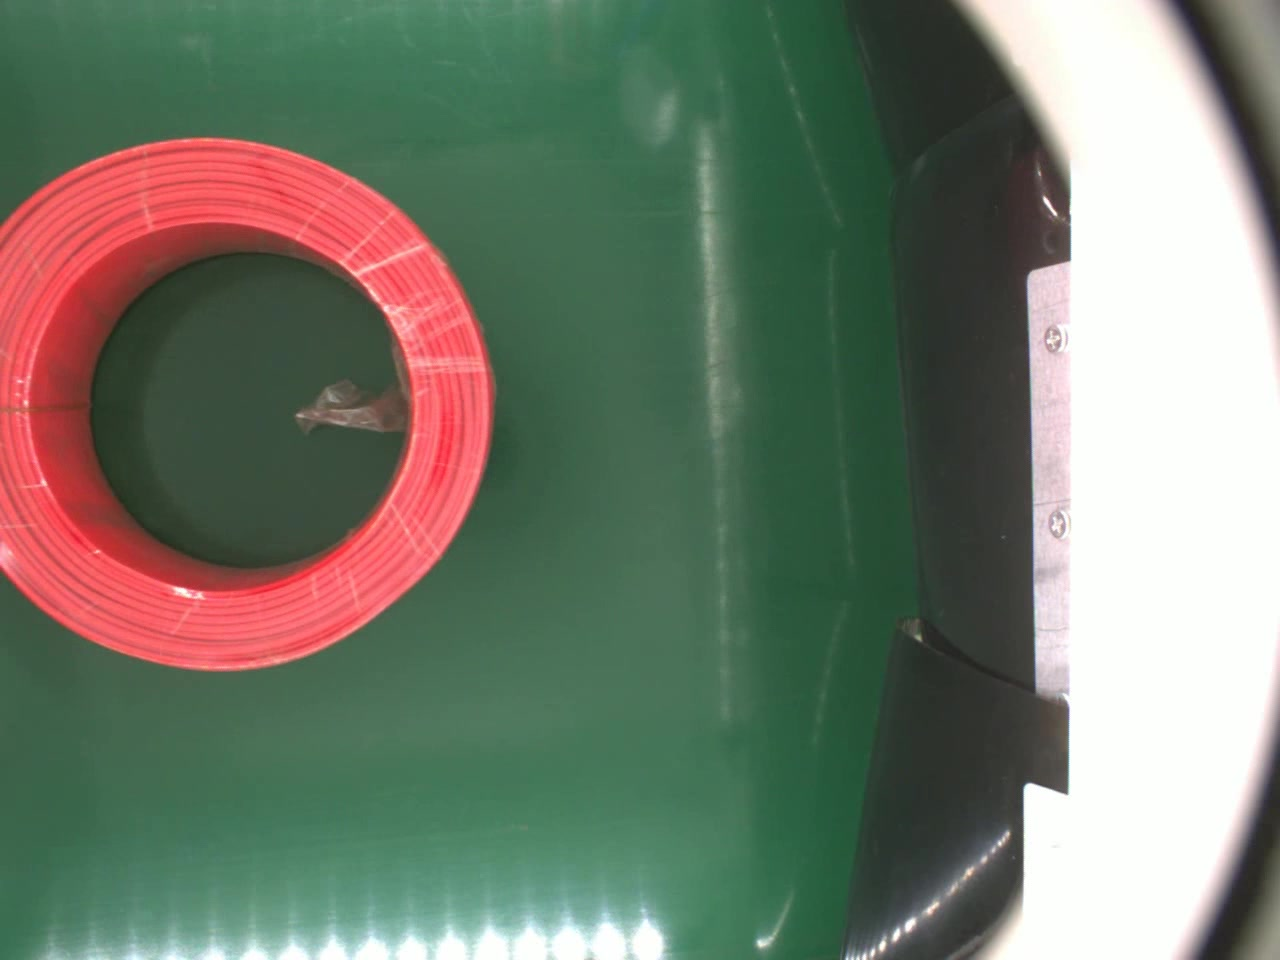red: (0, 134, 497, 671)
